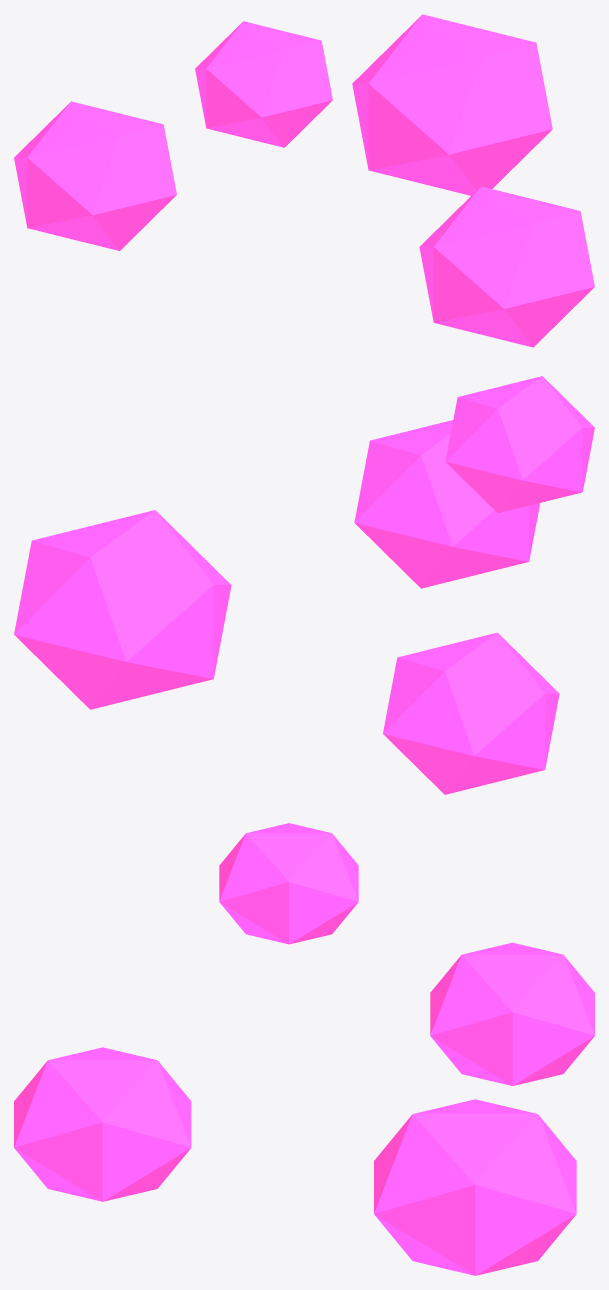
Rendered from blobs.glb.
3 renders of one model, top to bottom at view 1: azimuth 30°, elevation 25°; view 2: azimuth 150°, elevation 25°; view 3: azimuth 270°, elevation 25°, orthographic. The views are drawn at different scales.
Parts seen in each view (by area): view 1: Blob0, Blob2, Blob1, Blob3; view 2: Blob0, Blob1, Blob2, Blob3; view 3: Blob0, Blob2, Blob1, Blob3.
Part boxes in pixels (x1=…): Blob0: x1=352, y1=14, x2=552, y2=195; Blob2: x1=419, y1=186, x2=594, y2=347; Blob1: x1=14, y1=101, x2=176, y2=250; Blob3: x1=195, y1=21, x2=332, y2=147; Blob0: x1=14, y1=510, x2=231, y2=709; Blob1: x1=383, y1=632, x2=559, y2=794; Blob2: x1=354, y1=420, x2=540, y2=588; Blob3: x1=445, y1=376, x2=594, y2=513; Blob0: x1=374, y1=1099, x2=576, y2=1275; Blob2: x1=14, y1=1047, x2=191, y2=1201; Blob1: x1=430, y1=942, x2=594, y2=1085; Blob3: x1=219, y1=823, x2=358, y2=944.
Bounding box in the file's own units: 0.7967 × 0.4237 × 0.7797.
